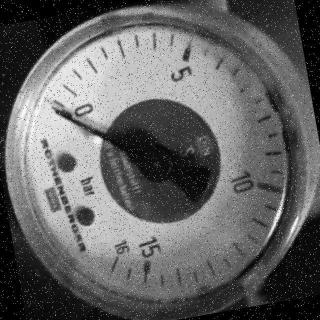gauge: (2, 1, 320, 320), (133, 140, 177, 187), (43, 92, 86, 135), (96, 235, 137, 279), (49, 102, 69, 122)
